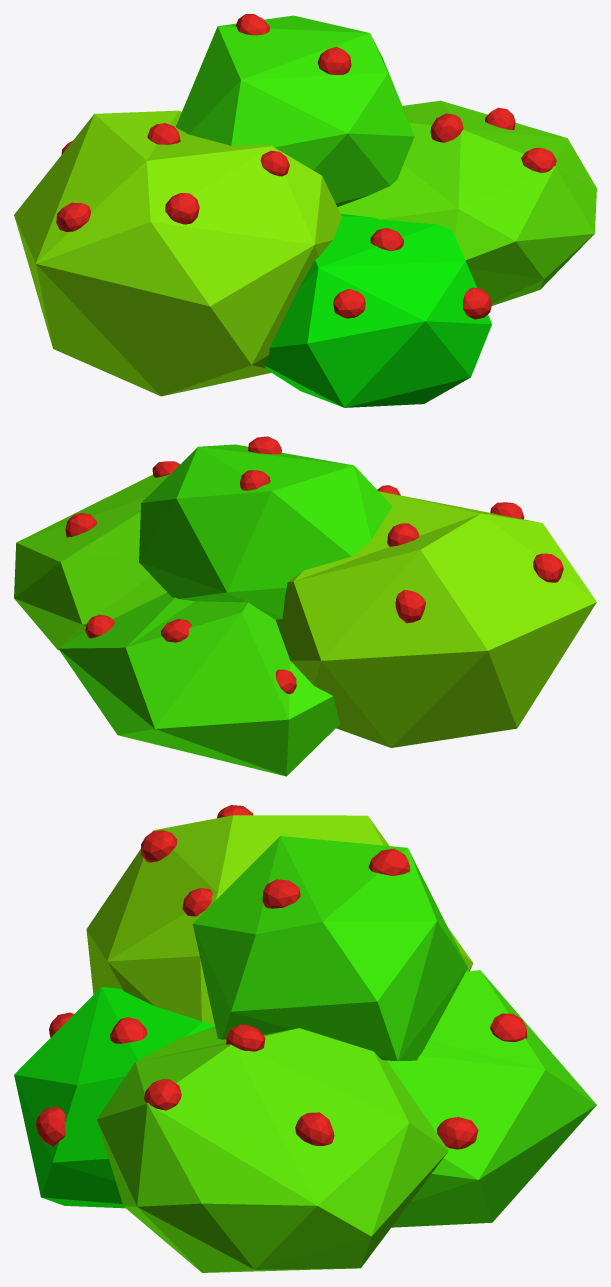
The picture shows the model from 3 angles, top to bottom: view 1: azimuth 30°, elevation 25°; view 2: azimuth 150°, elevation 25°; view 3: azimuth 270°, elevation 25°; orthographic projection. The views are drawn at different scales.
Parts seen in each view (by area): view 1: Icosphere.002; view 2: Icosphere.002; view 3: Icosphere.002.
Boxes of the visible parts, box(x1,y1,x2,y2) form: Icosphere.002: box(14, 14, 596, 407); Icosphere.002: box(14, 436, 596, 776); Icosphere.002: box(14, 805, 596, 1272).
Size of the model in its own units: 1.66 by 0.833 by 1.27.
